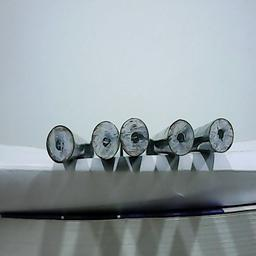pen: (45, 124, 75, 164), (90, 119, 120, 159), (121, 116, 150, 157), (166, 117, 195, 156), (207, 116, 236, 153)
